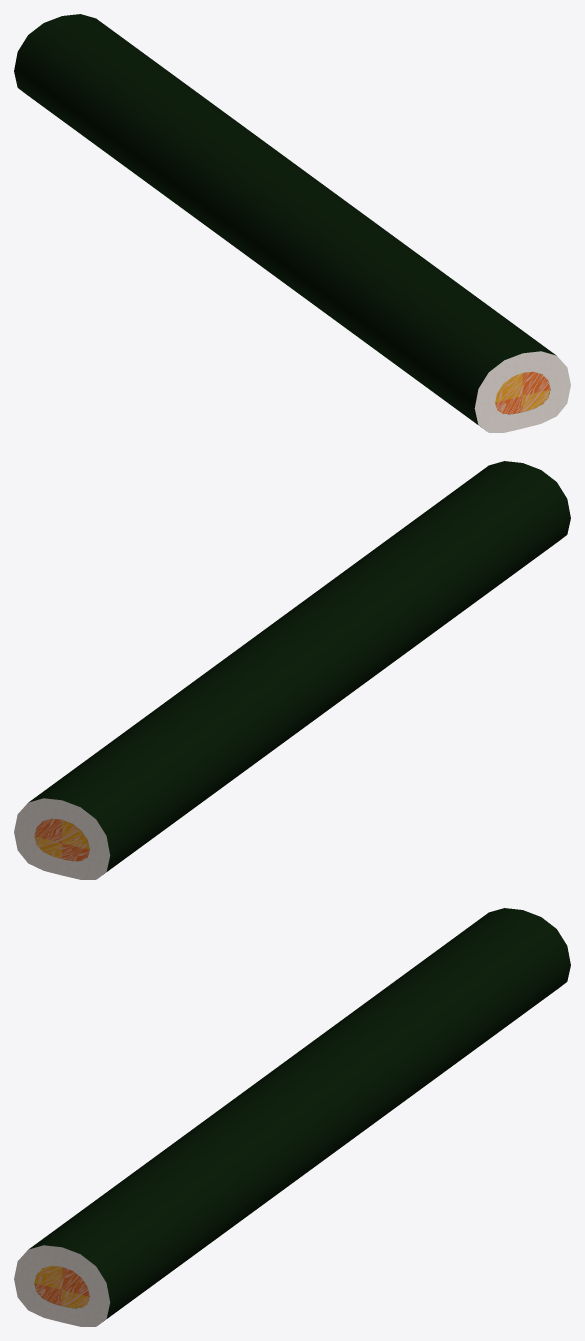
The model's file is Futomaki.fbx.
3 renders of one model, top to bottom at view 1: azimuth 30°, elevation 25°; view 2: azimuth 150°, elevation 25°; view 3: azimuth 330°, elevation 25°, orthographic.
Visible parts, largest first — view 1: Cylinder.006, Cylinder.003, Cylinder.001; view 2: Cylinder.006, Cylinder.003, Cylinder.002; view 3: Cylinder.006, Cylinder.003, Cylinder.001.
Part boxes in pixels (x1,y1,x2,y2): Cylinder.006: (14,14,556,427); Cylinder.003: (474,351,570,432); Cylinder.001: (495,371,550,414); Cylinder.006: (28,461,570,874); Cylinder.003: (14,798,110,879); Cylinder.002: (34,818,89,861); Cylinder.006: (28,908,570,1321); Cylinder.003: (14,1245,110,1326); Cylinder.001: (34,1265,89,1308).
Size of the model in its own units: 8.69 by 6.5 by 72.07.
